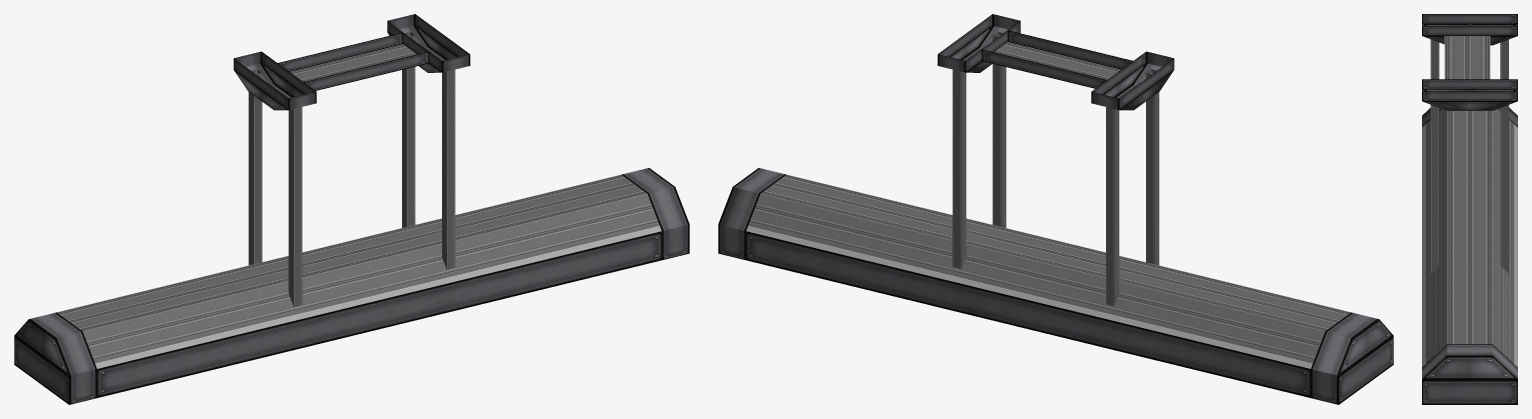
Rendered from Cit_LightStripB.FBX.
The picture shows the model from 3 angles, left to right: view 1: azimuth 30°, elevation 25°; view 2: azimuth 150°, elevation 25°; view 3: azimuth 270°, elevation 25°; orthographic projection. The views are drawn at different scales.
Parts seen in each view (by area): view 1: Cit_LightStripB; view 2: Cit_LightStripB; view 3: Cit_LightStripB.
Boxes of the visible parts, box(x1,y1,x2,y2) form: Cit_LightStripB: box(14, 14, 689, 404); Cit_LightStripB: box(718, 14, 1393, 404); Cit_LightStripB: box(1422, 14, 1517, 404).
Size of the model in its own units: 1.96 by 0.7638 by 0.3008.
